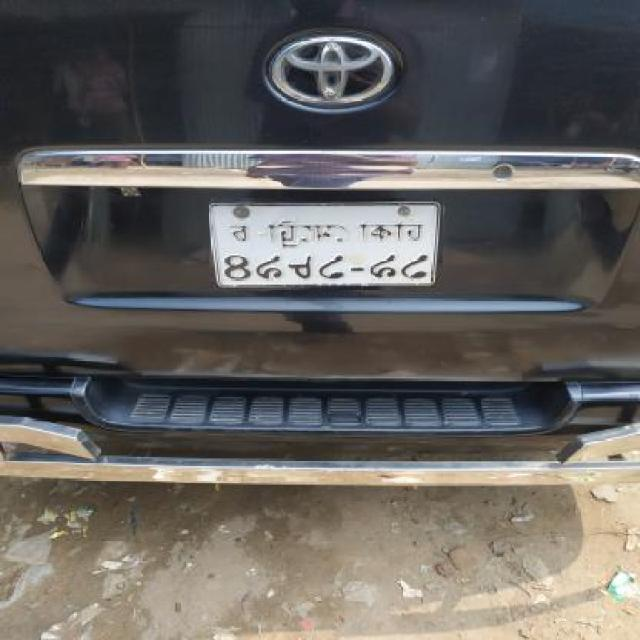numberplate: (209, 198, 443, 290)
